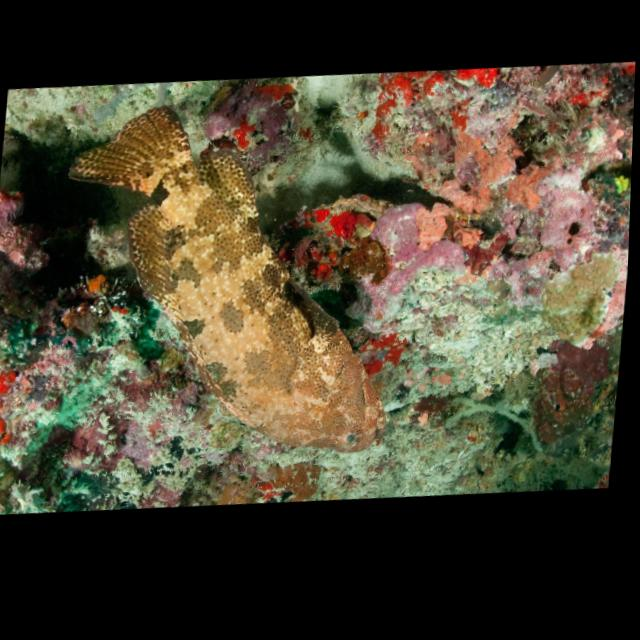Groupers: (40, 79, 420, 486)
